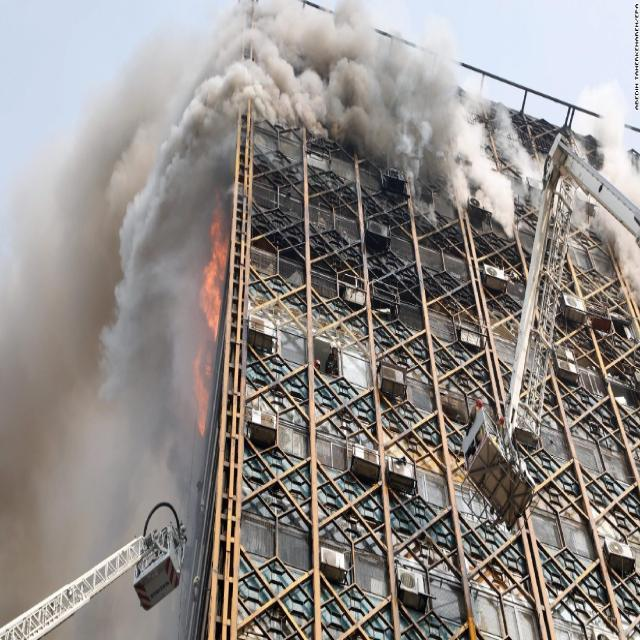Smoke: (232, 16, 449, 152), (132, 89, 202, 414)
